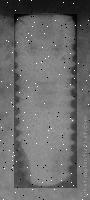MIS: (14, 14, 78, 188)
